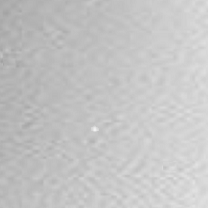Target: (91, 126, 99, 132)
